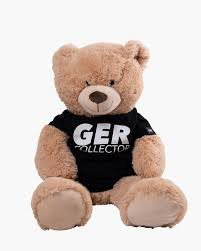teddy: (27, 33, 198, 243)
